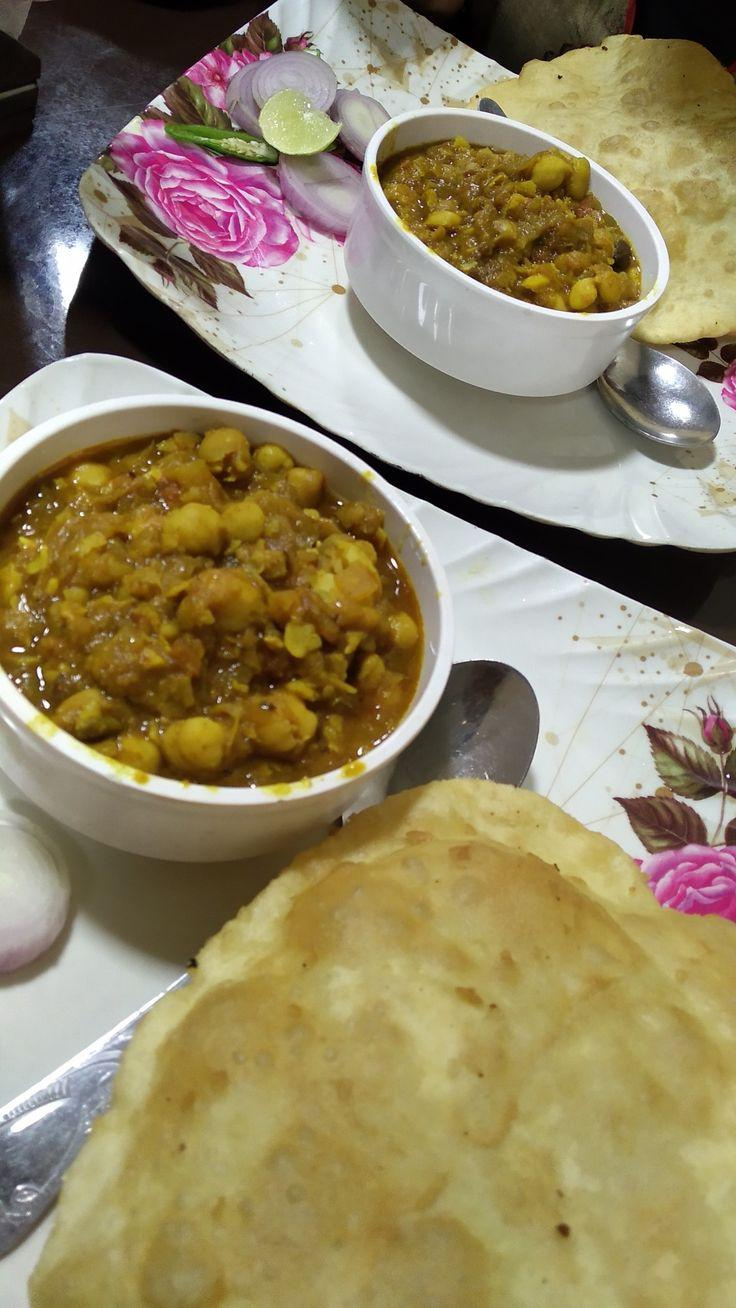chole: (0, 408, 397, 743), (383, 124, 657, 321)
puri: (157, 888, 736, 1308), (530, 34, 736, 201)
salad: (243, 61, 368, 196)
